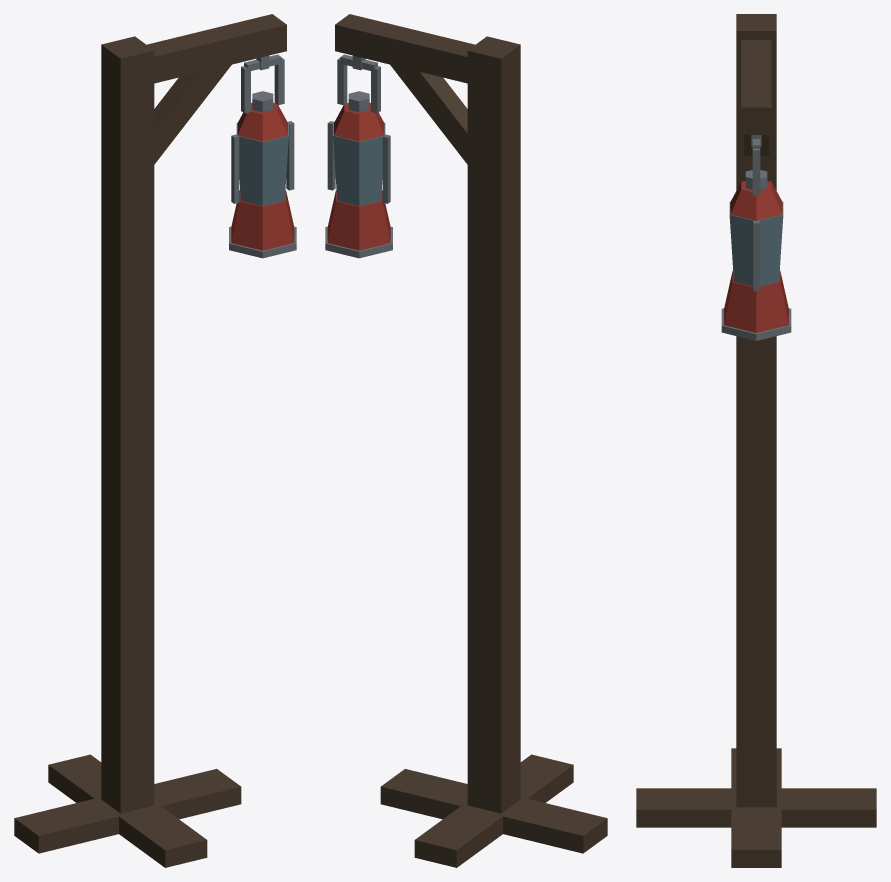
File: base_light.glb
3 views of the same model, side by side, from view 1: azimuth 30°, elevation 25°; view 2: azimuth 150°, elevation 25°; view 3: azimuth 270°, elevation 25° (orthographic). The views are drawn at different scales.
Visible parts, largest first — view 1: base_light; view 2: base_light; view 3: base_light.
Part boxes in pixels (left/top/right/bottom): base_light: left=14, top=14, right=296, bottom=867; base_light: left=325, top=14, right=607, bottom=867; base_light: left=636, top=14, right=876, bottom=867.
Size of what is drawn, in the model's own units: 0.64 by 1.75 by 0.48.
2 materials, 2 textured.
